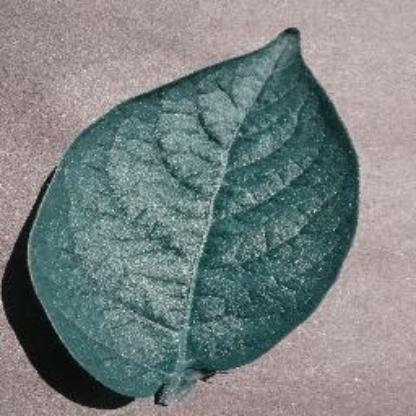Healthy-plant: (23, 27, 358, 407)
